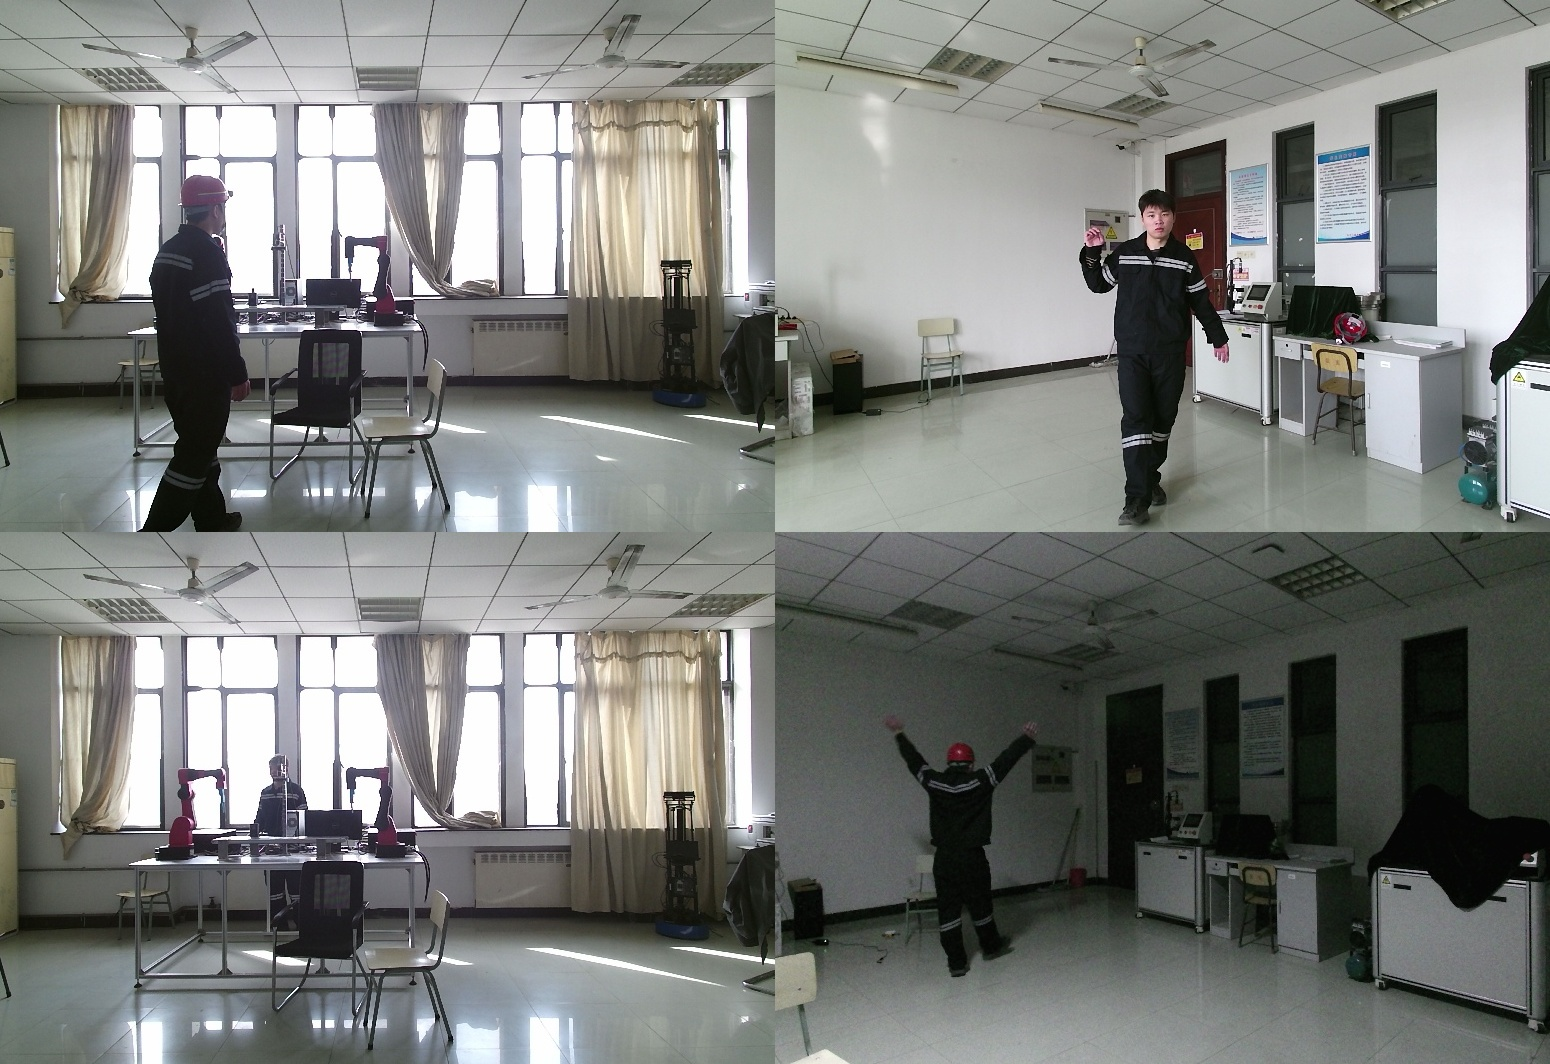person: (1080, 191, 1232, 521), (872, 720, 1046, 980), (138, 176, 258, 532), (255, 757, 319, 931)
